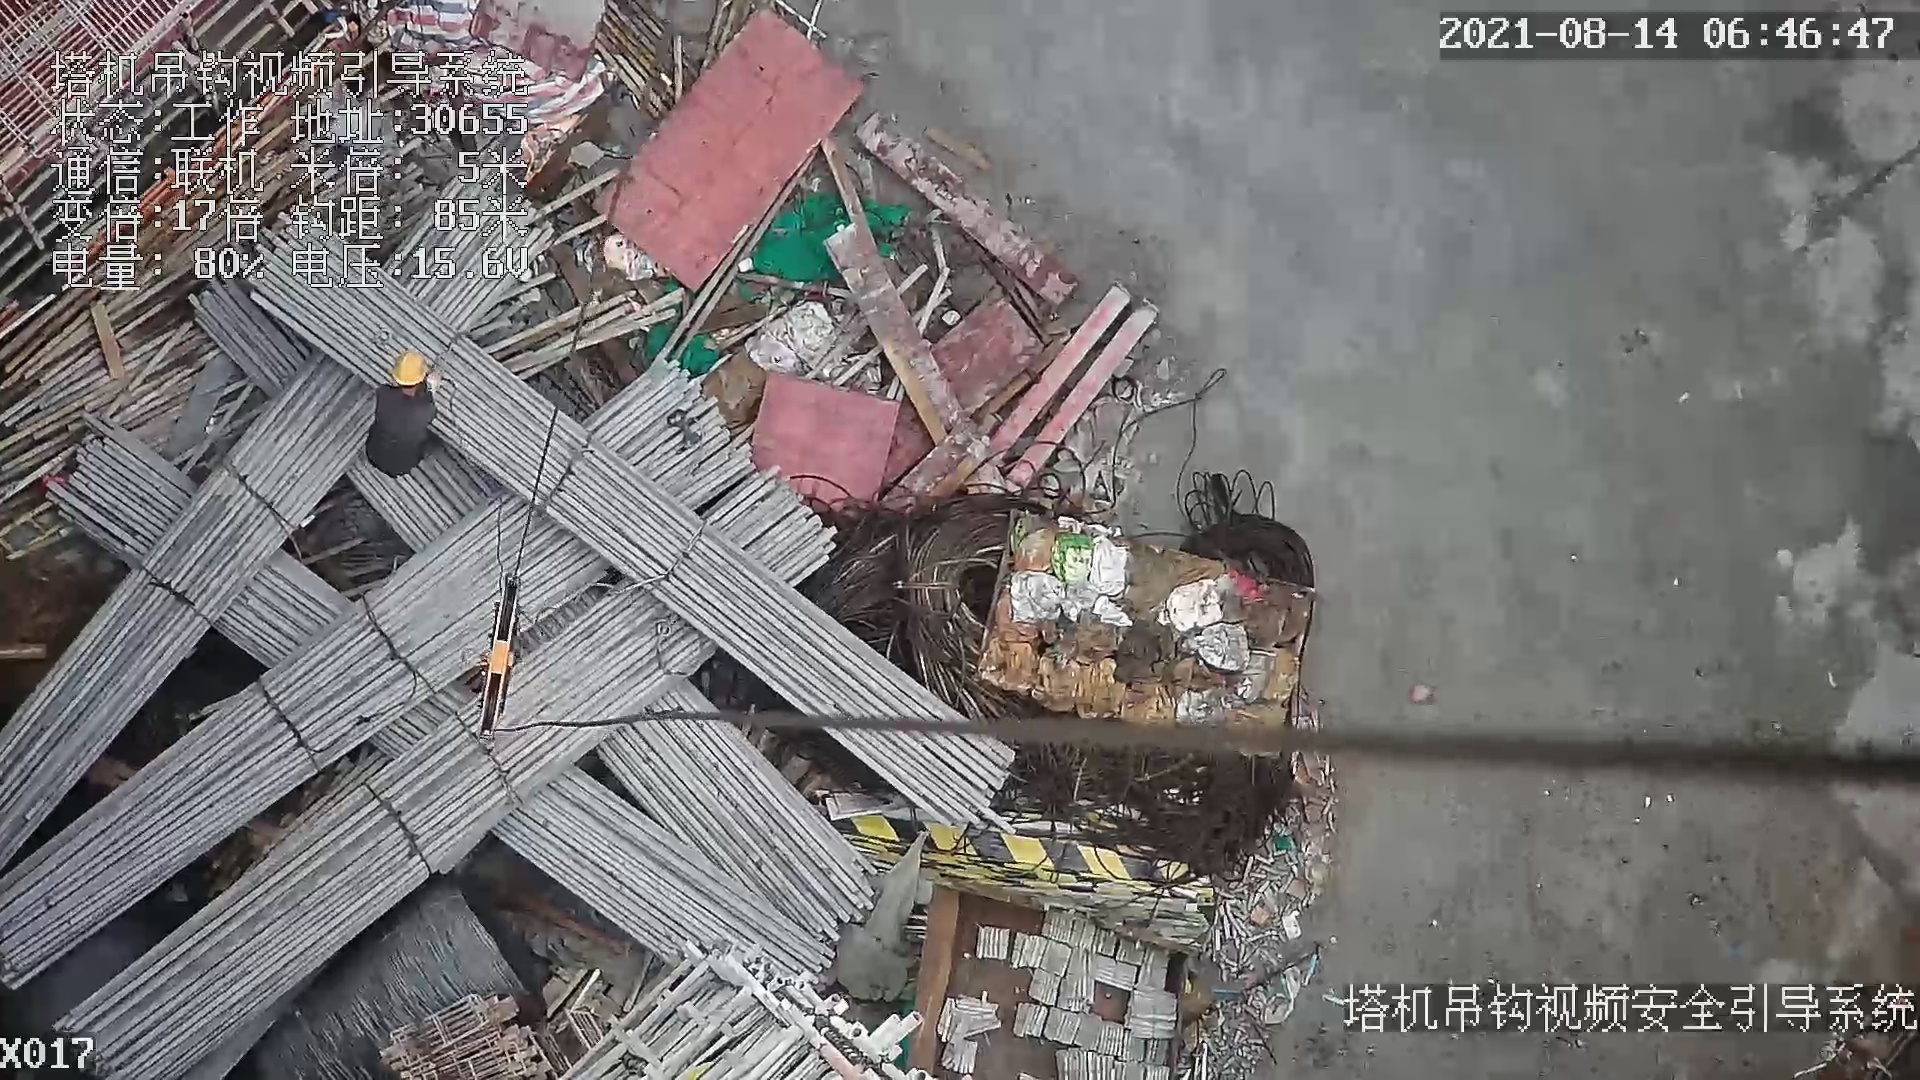board: (586, 5, 859, 300)
helmet: (393, 350, 429, 386)
hook: (476, 576, 524, 742)
person: (362, 347, 442, 481)
